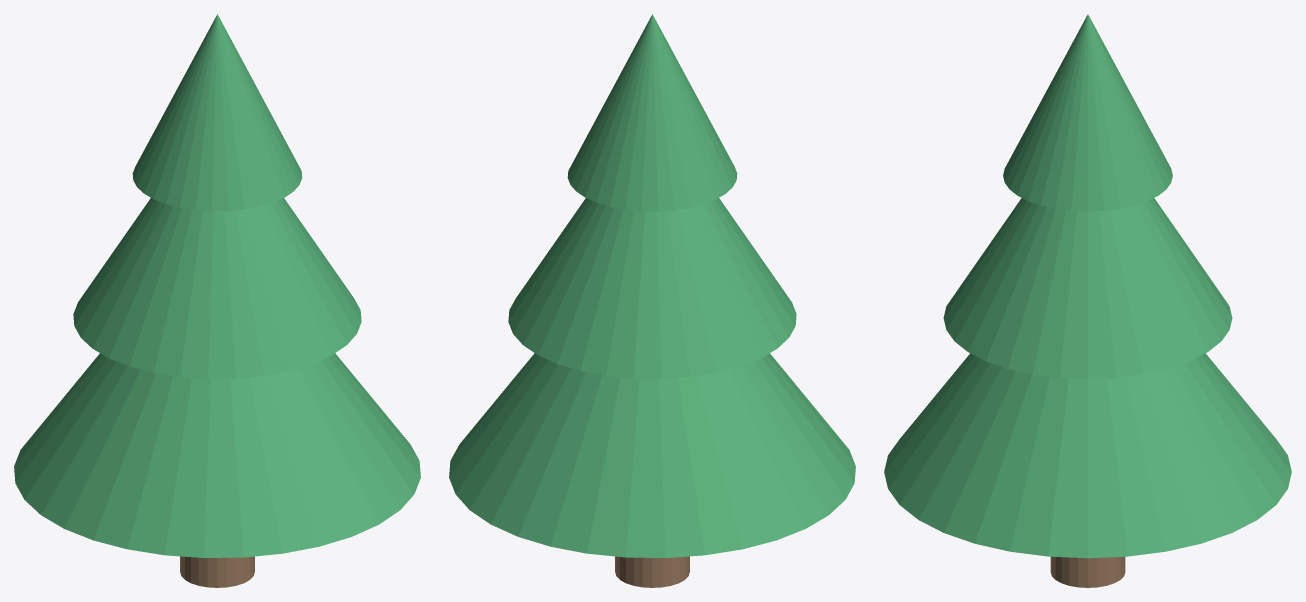
File: pine.glb
The picture shows the model from 3 angles, left to right: view 1: azimuth 30°, elevation 25°; view 2: azimuth 150°, elevation 25°; view 3: azimuth 270°, elevation 25°; orthographic projection.
Parts seen in each view (by area): view 1: Cone1, Cone2, Cone3, Trunk; view 2: Cone1, Cone2, Cone3, Trunk; view 3: Cone1, Cone2, Cone3, Trunk.
Boxes of the visible parts, x1=… form: Cone1: x1=14, y1=353, x2=420, y2=557; Cone2: x1=73, y1=198, x2=361, y2=378; Cone3: x1=132, y1=14, x2=302, y2=211; Trunk: x1=180, y1=556, x2=254, y2=587; Cone1: x1=449, y1=353, x2=855, y2=557; Cone2: x1=508, y1=198, x2=796, y2=378; Cone3: x1=567, y1=14, x2=737, y2=211; Trunk: x1=615, y1=556, x2=689, y2=587; Cone1: x1=884, y1=353, x2=1291, y2=558; Cone2: x1=943, y1=198, x2=1232, y2=378; Cone3: x1=1003, y1=14, x2=1172, y2=211; Trunk: x1=1050, y1=556, x2=1125, y2=587.
Bounding box in the file's own units: 2.4 × 3.62 × 2.4.
